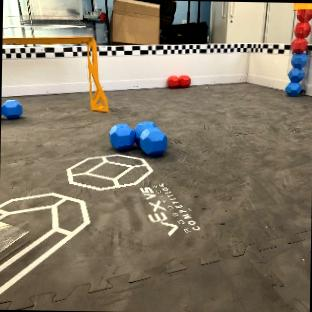V5_BLUE: (108, 121, 167, 156), (286, 53, 306, 95), (1, 99, 22, 118)
V5_RED: (291, 9, 312, 51), (167, 74, 190, 87)
